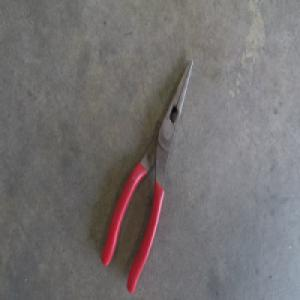Pliers: (101, 57, 192, 287)
